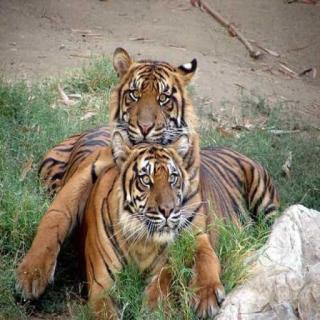Tiger: (87, 48, 279, 201), (62, 142, 198, 314)
